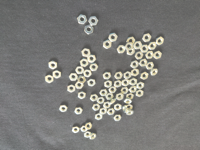nut: (77, 14, 87, 25), (89, 16, 99, 26), (87, 54, 97, 63), (143, 33, 152, 43), (85, 25, 94, 35), (45, 75, 54, 84), (90, 63, 99, 72), (82, 48, 91, 57), (135, 51, 144, 60), (154, 51, 163, 60), (156, 37, 165, 46), (127, 47, 136, 56), (134, 41, 143, 50), (117, 45, 126, 54), (127, 37, 136, 46), (103, 40, 112, 49), (109, 33, 118, 42), (75, 67, 85, 75), (140, 45, 150, 53), (59, 105, 68, 113), (53, 70, 61, 79), (49, 61, 57, 70), (78, 91, 86, 100), (90, 94, 99, 102), (78, 76, 87, 84), (84, 69, 92, 78), (80, 59, 89, 67), (104, 80, 113, 88), (103, 72, 112, 80), (137, 81, 145, 90), (140, 72, 149, 80), (150, 68, 159, 76), (130, 61, 139, 69), (146, 62, 155, 70), (125, 43, 134, 51), (95, 113, 103, 121), (107, 108, 115, 116), (68, 85, 76, 93), (97, 97, 105, 105), (116, 93, 124, 101), (88, 79, 96, 87), (100, 89, 108, 97), (136, 90, 144, 98), (121, 87, 129, 95), (114, 80, 122, 88), (122, 79, 130, 87), (130, 78, 138, 86), (115, 72, 123, 80), (124, 71, 132, 79), (132, 69, 140, 77), (140, 59, 148, 67), (146, 51, 154, 59), (149, 42, 157, 50), (124, 98, 133, 105), (75, 82, 84, 89), (69, 74, 78, 81), (90, 133, 97, 141), (84, 132, 92, 139), (72, 127, 80, 134), (85, 123, 92, 131), (75, 108, 83, 115), (100, 108, 108, 115), (114, 115, 122, 122), (93, 104, 101, 111), (103, 102, 111, 109), (115, 103, 122, 111), (126, 93, 134, 100), (109, 87, 117, 94), (130, 86, 137, 94), (81, 126, 88, 133), (110, 98, 117, 105), (127, 109, 134, 116), (106, 94, 114, 100), (126, 104, 133, 110), (123, 106, 128, 114)
